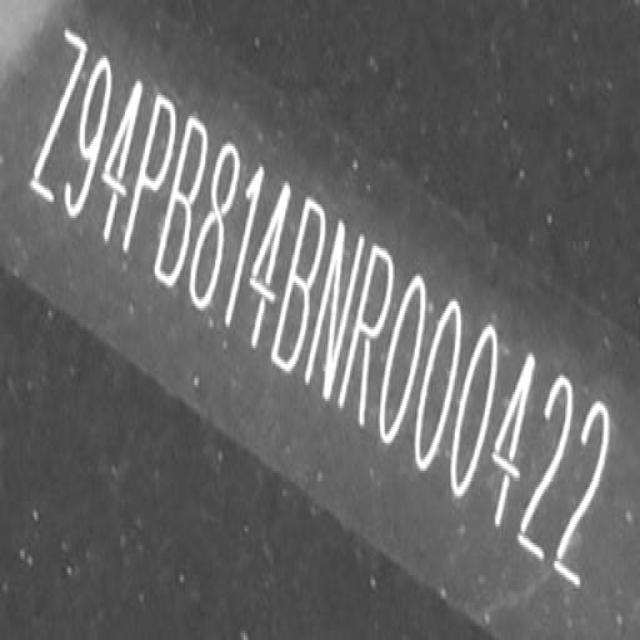0: (434, 302, 511, 524), (398, 280, 475, 497), (369, 257, 439, 473)
1: (212, 152, 271, 343)
2: (547, 383, 618, 606), (512, 361, 583, 577)
4: (475, 334, 547, 551), (233, 168, 302, 372), (85, 58, 152, 264)
8: (178, 131, 249, 331)
9: (54, 43, 123, 241)
B: (144, 105, 218, 310), (265, 189, 336, 395)
N: (298, 210, 372, 416)
P: (116, 83, 189, 283)
R: (333, 234, 405, 442)
Z: (23, 17, 93, 219)
